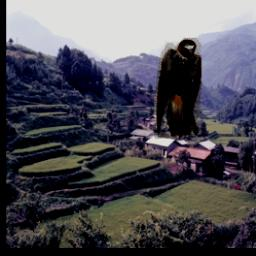Swallow: (154, 38, 202, 139)
